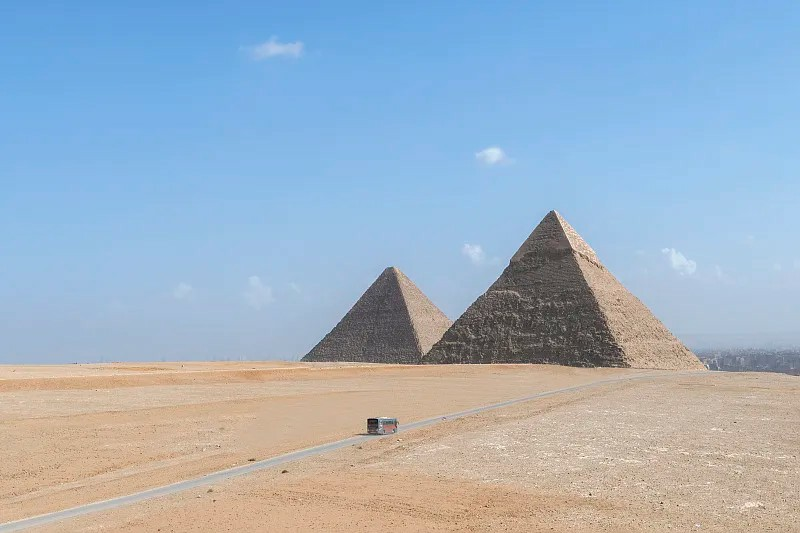Pyramid: (417, 209, 708, 371), (301, 268, 453, 363)
